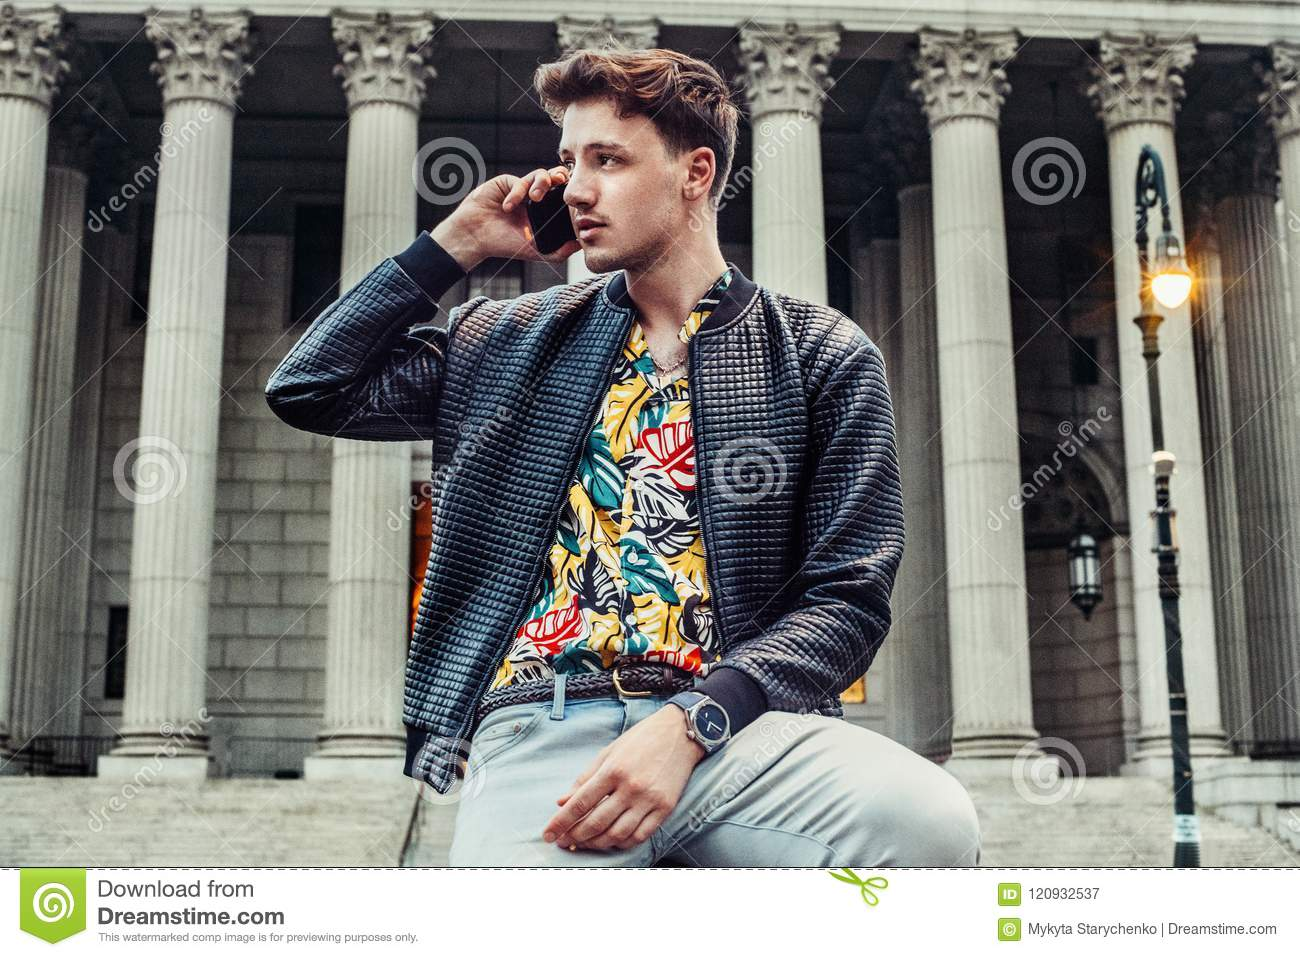phone: (519, 168, 573, 261)
talk: (442, 123, 654, 269)
